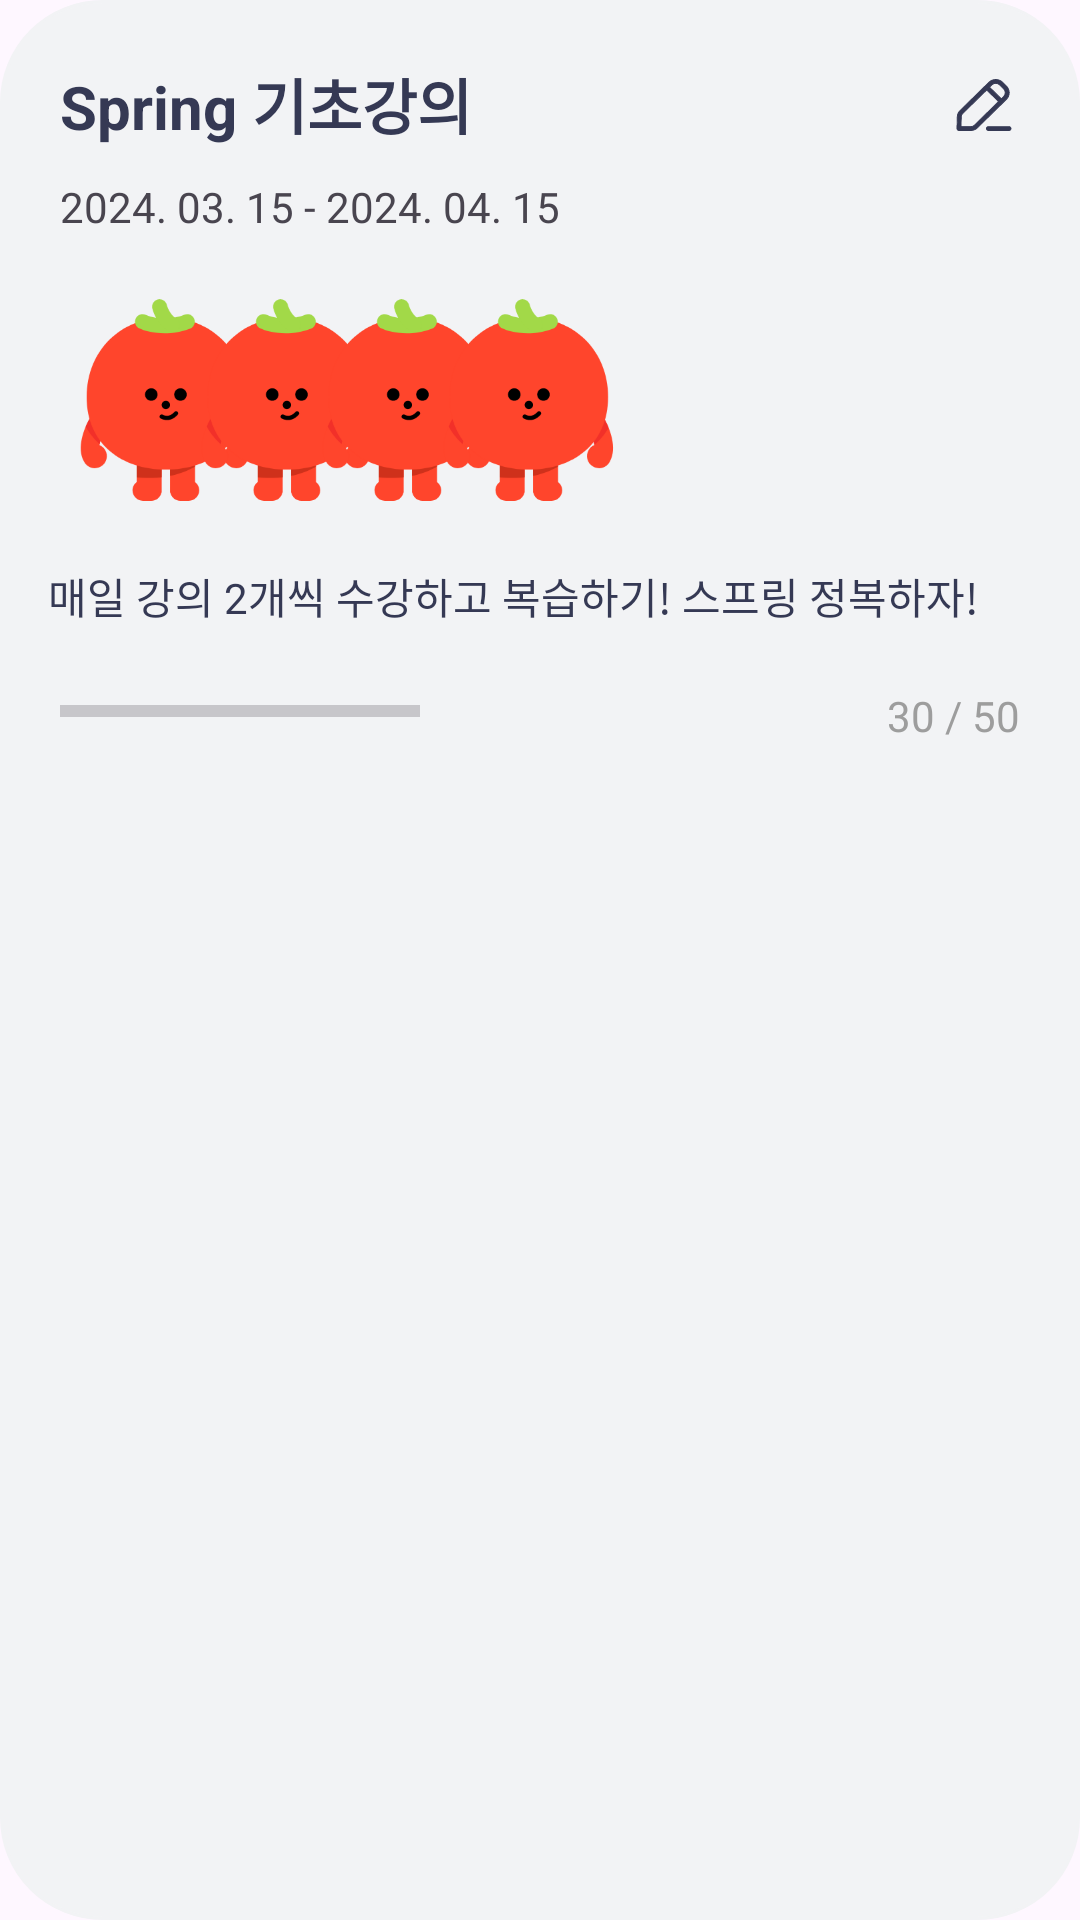

Where to tap for icons on this 1080*1920 app screen, as (x,y):
edit: (984,105)
